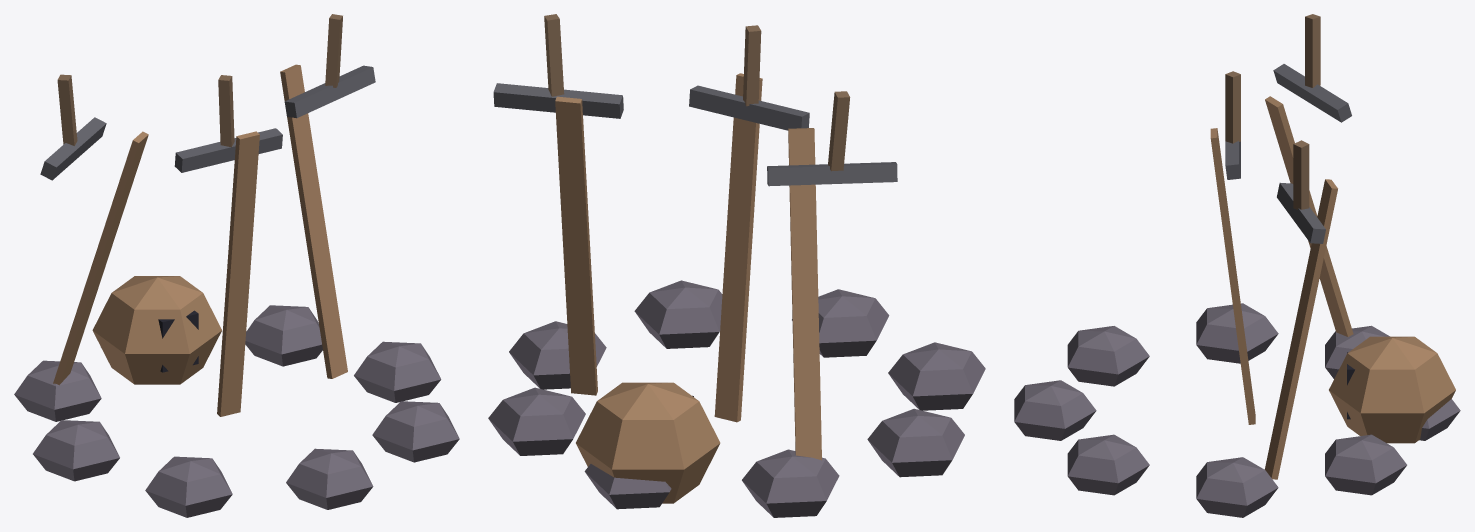
The model's file is sword_grave.glb.
3 views of the same model, side by side, from view 1: azimuth 30°, elevation 25°; view 2: azimuth 150°, elevation 25°; view 3: azimuth 270°, elevation 25° (orthographic). The views are drawn at different scales.
Visible parts, largest first — view 1: sword_grave; view 2: sword_grave; view 3: sword_grave.
Boxes of the visible parts, left/top/right/bottom form: sword_grave: left=14, top=14, right=459, bottom=517; sword_grave: left=488, top=14, right=985, bottom=517; sword_grave: left=1014, top=14, right=1460, bottom=517.
Bounding box in the file's own units: 1.98 × 1.76 × 1.96.
